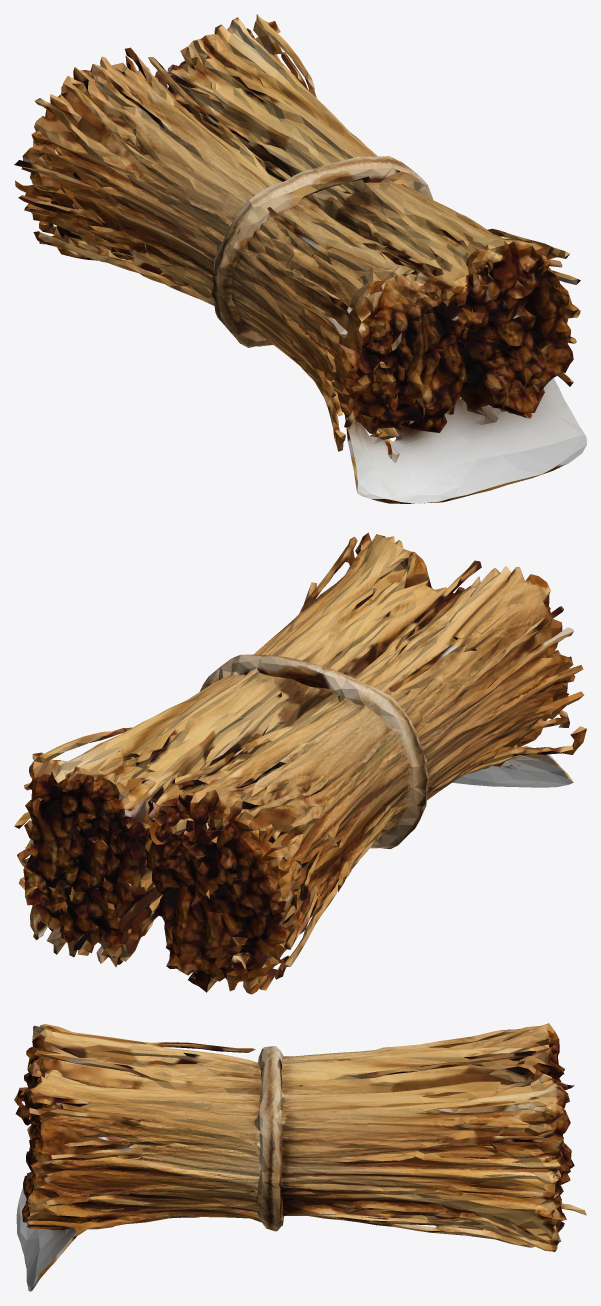
File: traveler_env_coast_cakon_thatch_bundle_00001_.glb
3 views of the same model, one above another, from view 1: azimuth 30°, elevation 25°; view 2: azimuth 150°, elevation 25°; view 3: azimuth 270°, elevation 25° (orthographic). The views are drawn at different scales.
Visible parts, largest first — view 1: temp_mesh.ply; view 2: temp_mesh.ply; view 3: temp_mesh.ply.
Part boxes in pixels (x1,y1,x2,y2): temp_mesh.ply: (14,14,586,503); temp_mesh.ply: (14,532,586,994); temp_mesh.ply: (14,1023,586,1291).
Size of the model in its own units: 0.9125 by 0.7303 by 1.88.
1 material, 1 textured.
